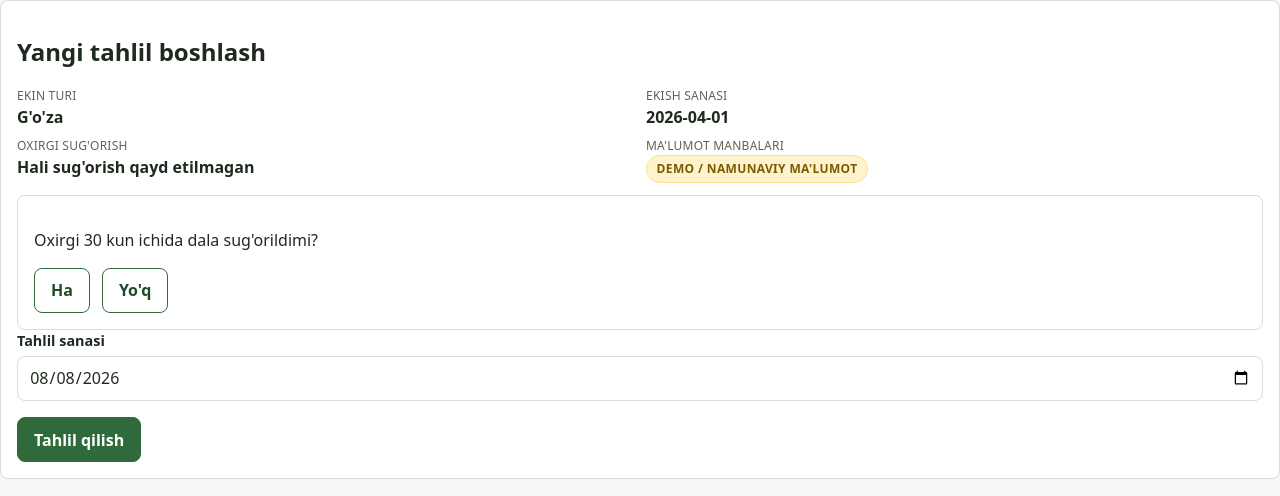
Test case: AnalysisLauncher › disables the run button while an analysis is in flight and prevents a duplicate submit
Click the button "Tahlil qilish" at [79, 440], box left=17, top=417, right=141, bottom=462
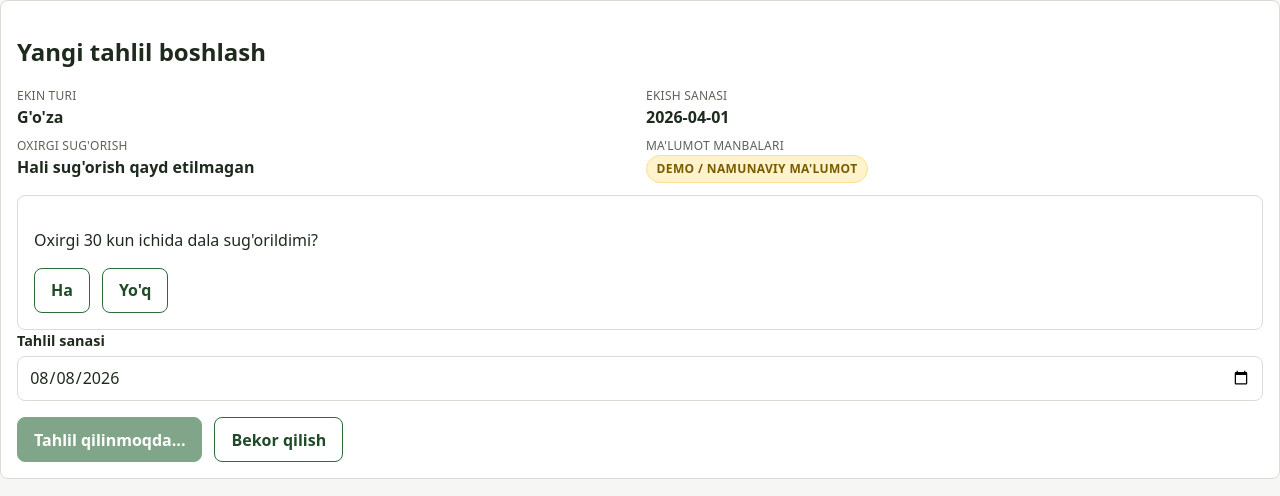
Expected: the button "Tahlil qilinmoqda..." is disabled, left=17, top=417, right=202, bottom=462
Expected: the button "Tahlil qilish" is gone
